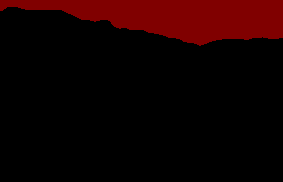Sky: (1, 1, 282, 46)
